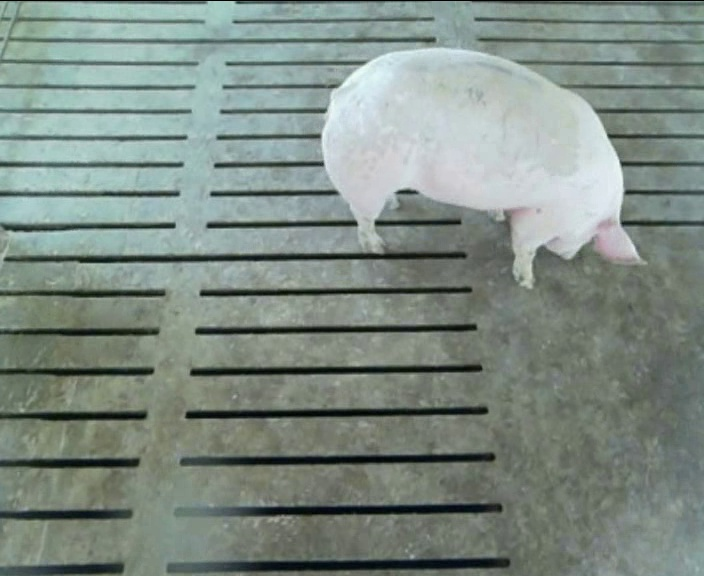pig: (322, 48, 641, 288)
